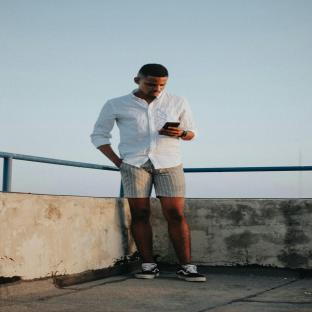Human: (91, 64, 206, 281)
